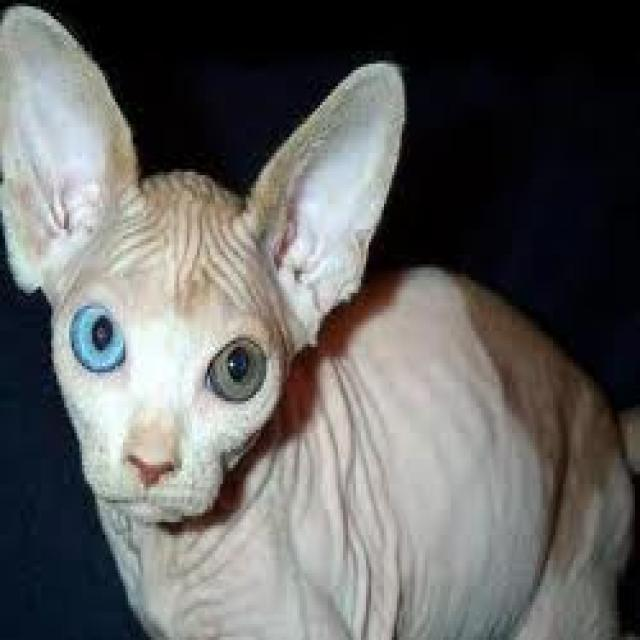Sphynx: (0, 0, 411, 531)
